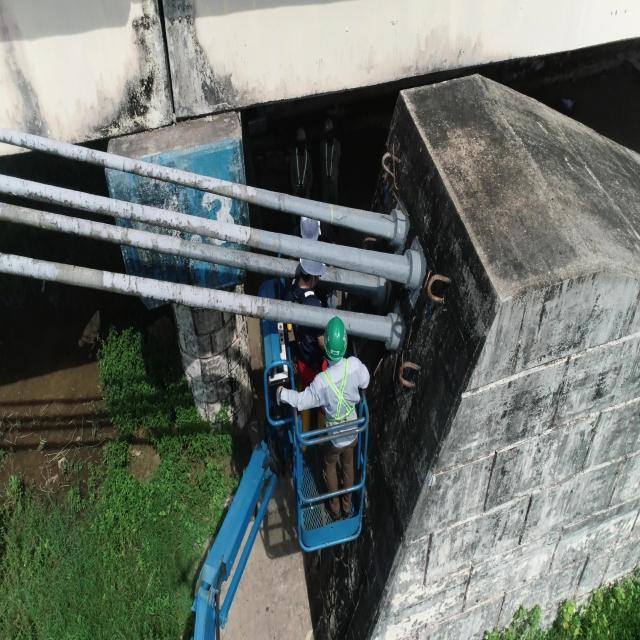crack: (126, 274, 131, 290), (348, 323, 352, 334), (72, 266, 75, 280), (135, 277, 138, 291), (122, 162, 126, 172), (283, 194, 285, 212), (250, 302, 252, 314), (33, 140, 35, 149), (39, 219, 41, 228), (108, 205, 110, 213), (137, 240, 139, 248), (225, 233, 227, 240), (139, 216, 141, 222), (180, 284, 181, 295), (236, 238, 238, 243), (229, 236, 231, 240), (242, 240, 244, 244), (209, 289, 210, 297), (158, 280, 159, 286), (188, 299, 189, 304), (202, 304, 203, 308), (171, 283, 172, 287)
